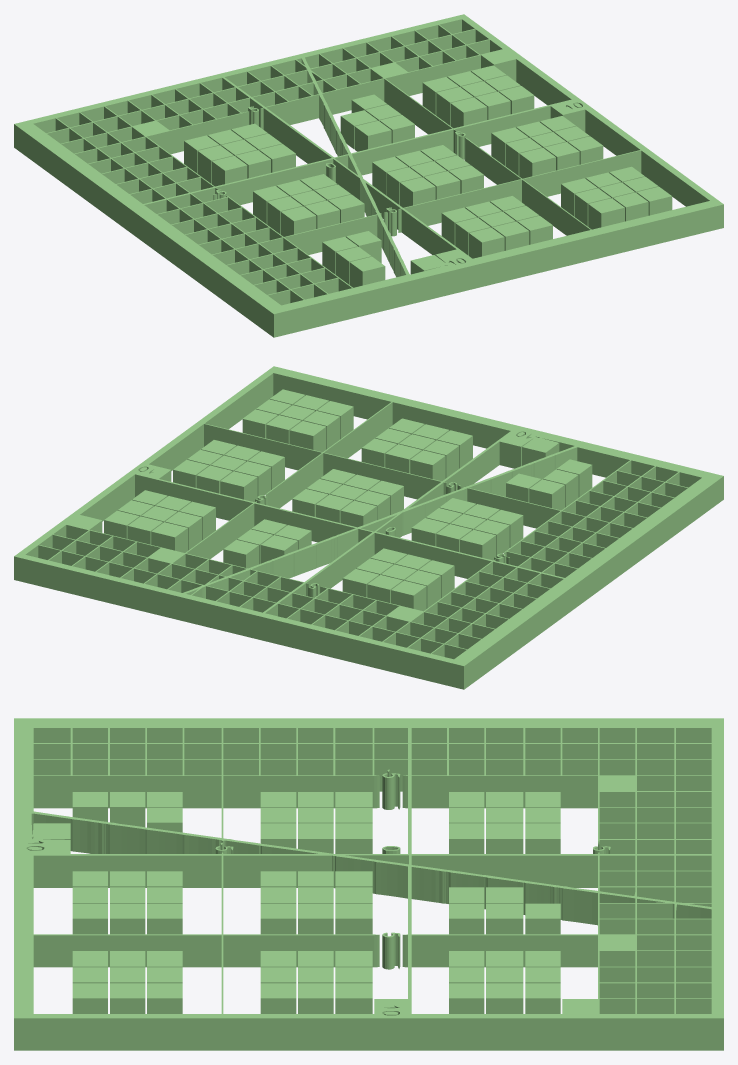
3 renders of one model, top to bottom at view 1: azimuth 30°, elevation 25°; view 2: azimuth 150°, elevation 25°; view 3: azimuth 270°, elevation 25°, orthographic. The views are drawn at different scales.
Parts seen in each view (by area): view 1: Mesh_Mesh_head_geo.001_lambert2SG.001; view 2: Mesh_Mesh_head_geo.001_lambert2SG.001; view 3: Mesh_Mesh_head_geo.001_lambert2SG.001.
Boxes of the visible parts, x1,y1,x2,y2 form: Mesh_Mesh_head_geo.001_lambert2SG.001: (14,14,723,337); Mesh_Mesh_head_geo.001_lambert2SG.001: (14,366,723,689); Mesh_Mesh_head_geo.001_lambert2SG.001: (14,718,723,1050).
Bounding box in the file's own units: 4 × 0.2 × 4.
